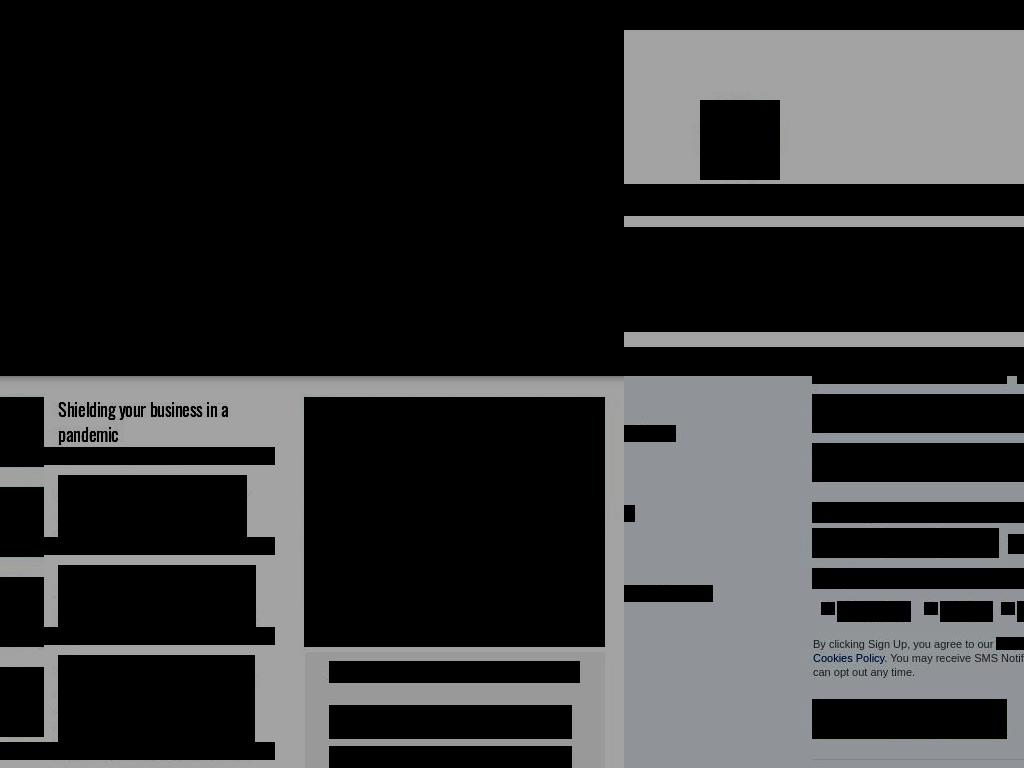button: (52, 57, 194, 113), (812, 699, 1007, 739), (0, 140, 201, 167), (329, 746, 572, 768), (0, 447, 275, 465), (0, 537, 275, 555), (0, 627, 275, 645), (0, 742, 275, 760), (657, 0, 718, 30), (867, 0, 925, 30), (980, 0, 1024, 30), (773, 0, 812, 30), (1008, 534, 1024, 554)
field: (812, 394, 1024, 433), (812, 443, 1024, 482), (329, 705, 572, 739), (812, 528, 882, 558), (937, 528, 999, 558), (881, 528, 938, 558), (812, 376, 1007, 384), (821, 602, 835, 615), (924, 602, 938, 615), (1001, 602, 1015, 615)
heading: (624, 227, 1024, 332), (624, 184, 1024, 216), (0, 0, 339, 28), (537, 0, 624, 92), (513, 30, 624, 80)
iframe: (304, 397, 605, 647)
image: (0, 0, 624, 376), (700, 100, 780, 180), (575, 86, 624, 178), (604, 93, 624, 161), (1008, 534, 1024, 551), (604, 96, 611, 103)
label: (837, 601, 911, 622), (940, 601, 993, 622)
link: (812, 651, 884, 664), (996, 637, 1024, 650)
text: (58, 655, 255, 742), (58, 565, 256, 627), (58, 475, 247, 537), (58, 385, 229, 447), (812, 651, 1024, 678), (329, 661, 580, 683), (812, 502, 1024, 523), (812, 568, 1024, 589), (0, 145, 193, 161), (0, 397, 44, 467), (0, 487, 44, 557), (0, 577, 44, 647), (0, 667, 44, 737), (812, 637, 996, 650), (624, 585, 713, 602), (624, 425, 676, 442)
